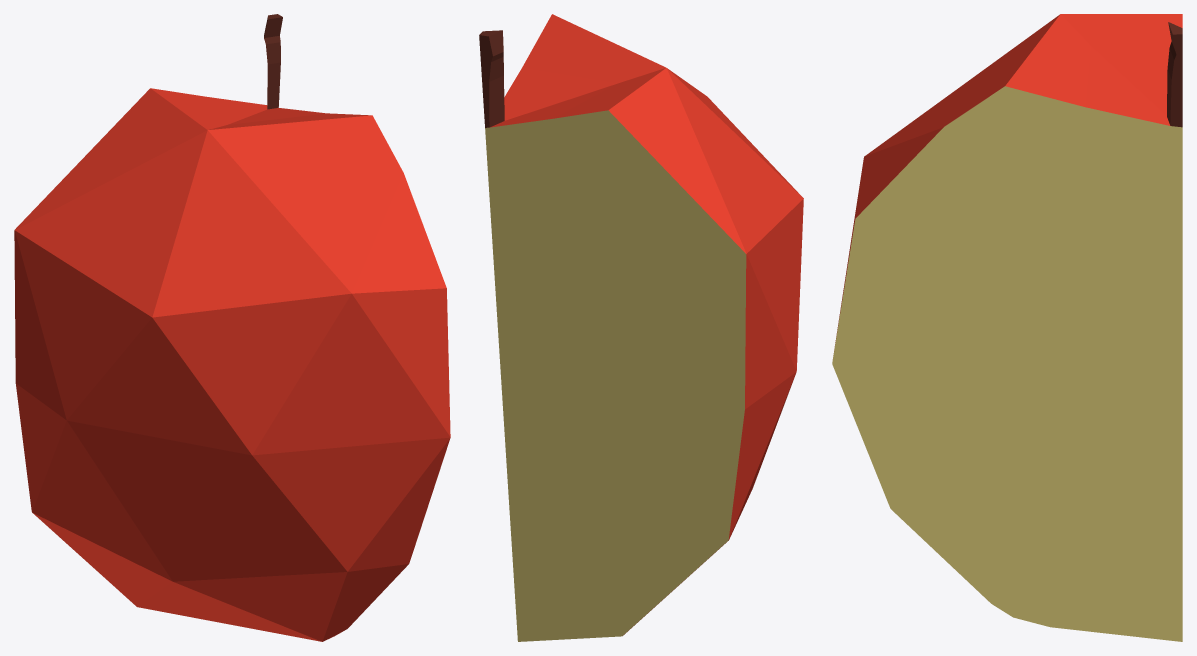
The model's file is AppleQu1.fbx.
3 renders of one model, left to right at view 1: azimuth 30°, elevation 25°; view 2: azimuth 150°, elevation 25°; view 3: azimuth 270°, elevation 25°, orthographic. The views are drawn at different scales.
Parts seen in each view (by area): view 1: AppleQu1; view 2: AppleQu1; view 3: AppleQu1.
Boxes of the visible parts, bbox=[...] form: AppleQu1: bbox=[14, 14, 450, 641]; AppleQu1: bbox=[479, 14, 803, 641]; AppleQu1: bbox=[832, 14, 1182, 641].
Size of the model in its own units: 98.03 by 199 by 100.
